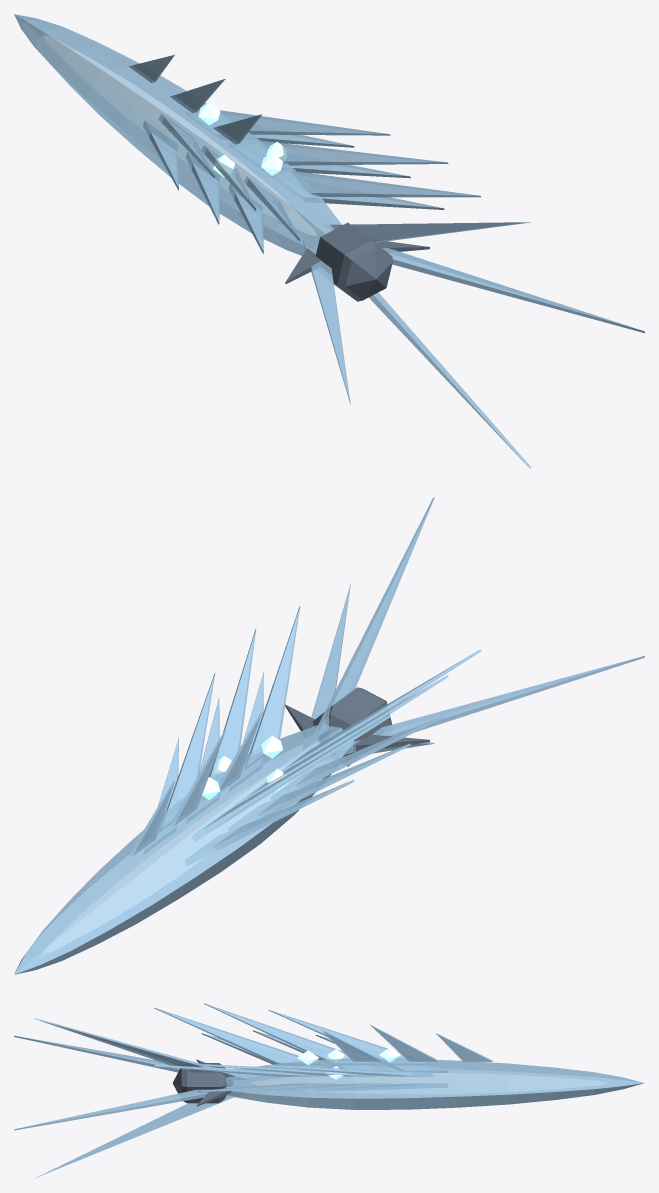
The model's file is ice_spear.glb.
The picture shows the model from 3 angles, top to bottom: view 1: azimuth 30°, elevation 25°; view 2: azimuth 150°, elevation 25°; view 3: azimuth 270°, elevation 25°; orthographic projection. The views are drawn at different scales.
Visible parts, largest first — view 1: IceSpear; view 2: IceSpear; view 3: IceSpear.
Boxes of the visible parts, x1=… form: IceSpear: x1=14, y1=14, x2=644, y2=468; IceSpear: x1=14, y1=497, x2=644, y2=974; IceSpear: x1=14, y1=1003, x2=644, y2=1177.
Size of the model in its own units: 0.2384 by 0.1908 by 0.6784.
